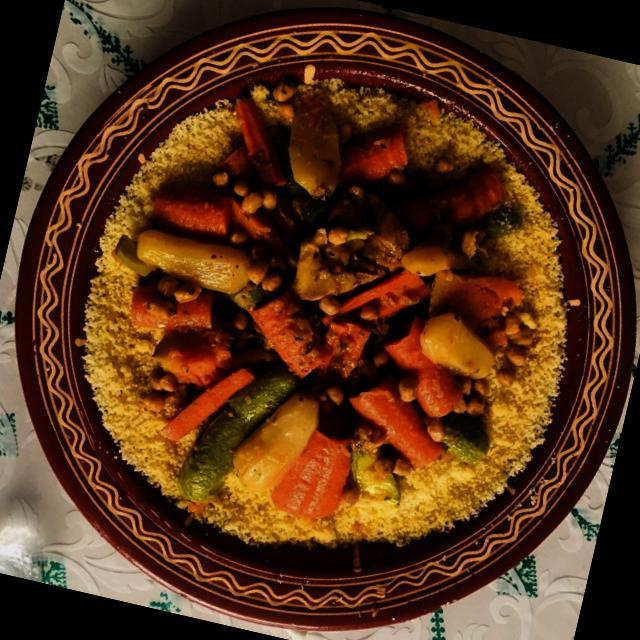Couscous: (27, 25, 624, 622)
